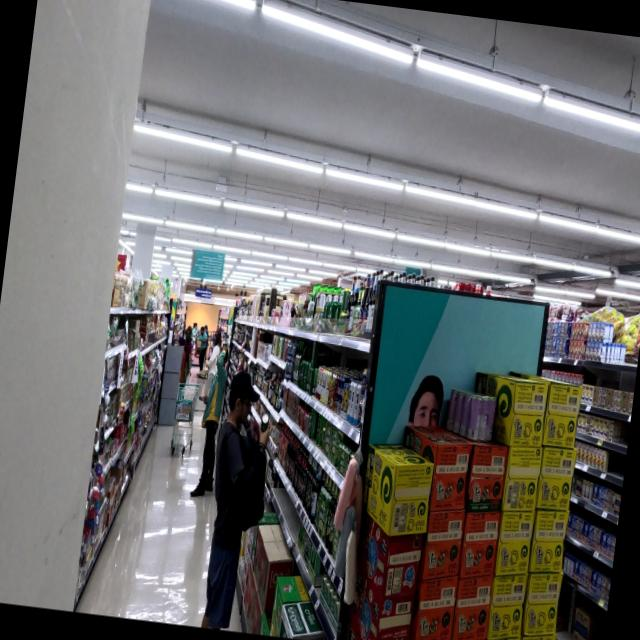shoplifting: (194, 368, 282, 625)
